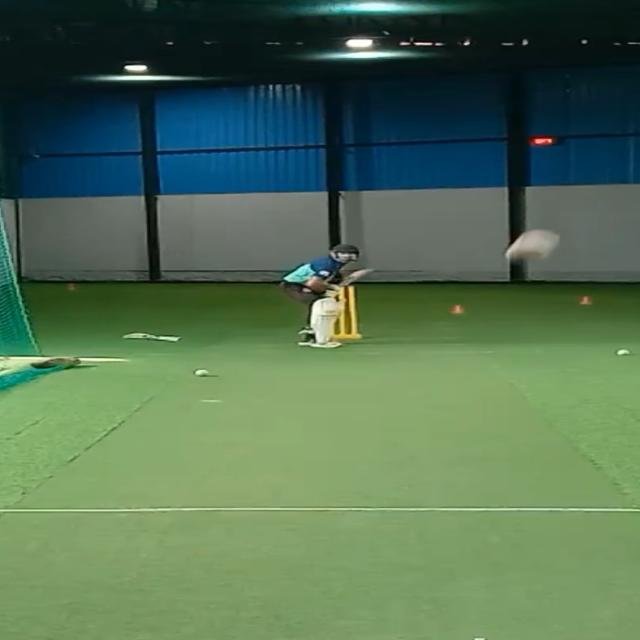ball: (503, 240, 552, 265), (193, 367, 215, 378), (614, 347, 631, 357)
stump: (330, 286, 362, 340)
